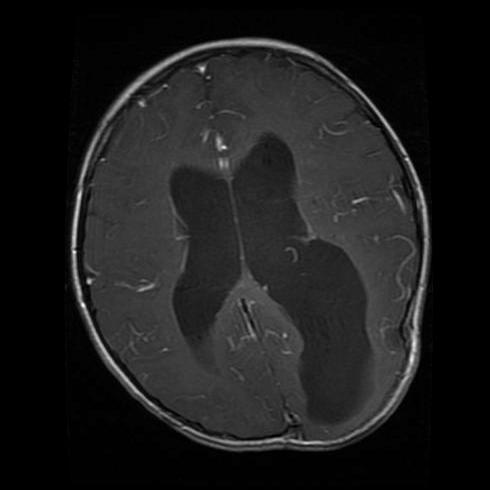Tumour-Glioma: (300, 369, 400, 446)
